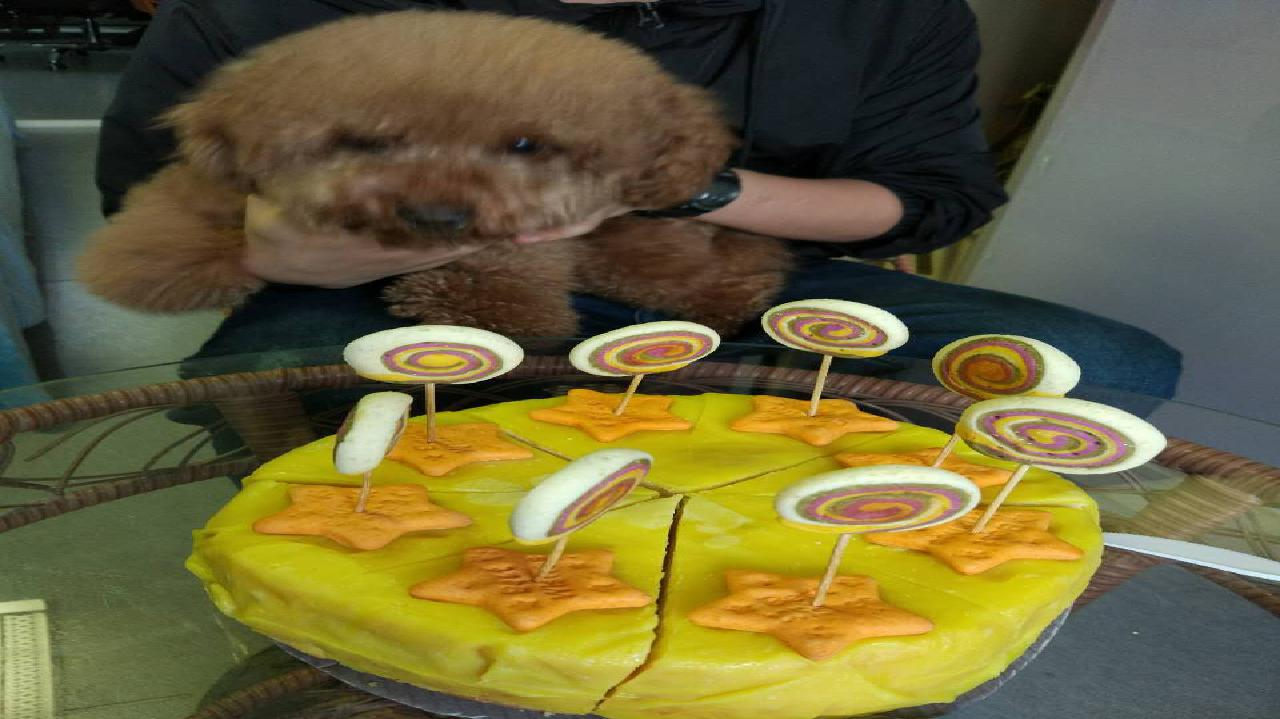zhuangzhuang: (111, 38, 781, 342)
